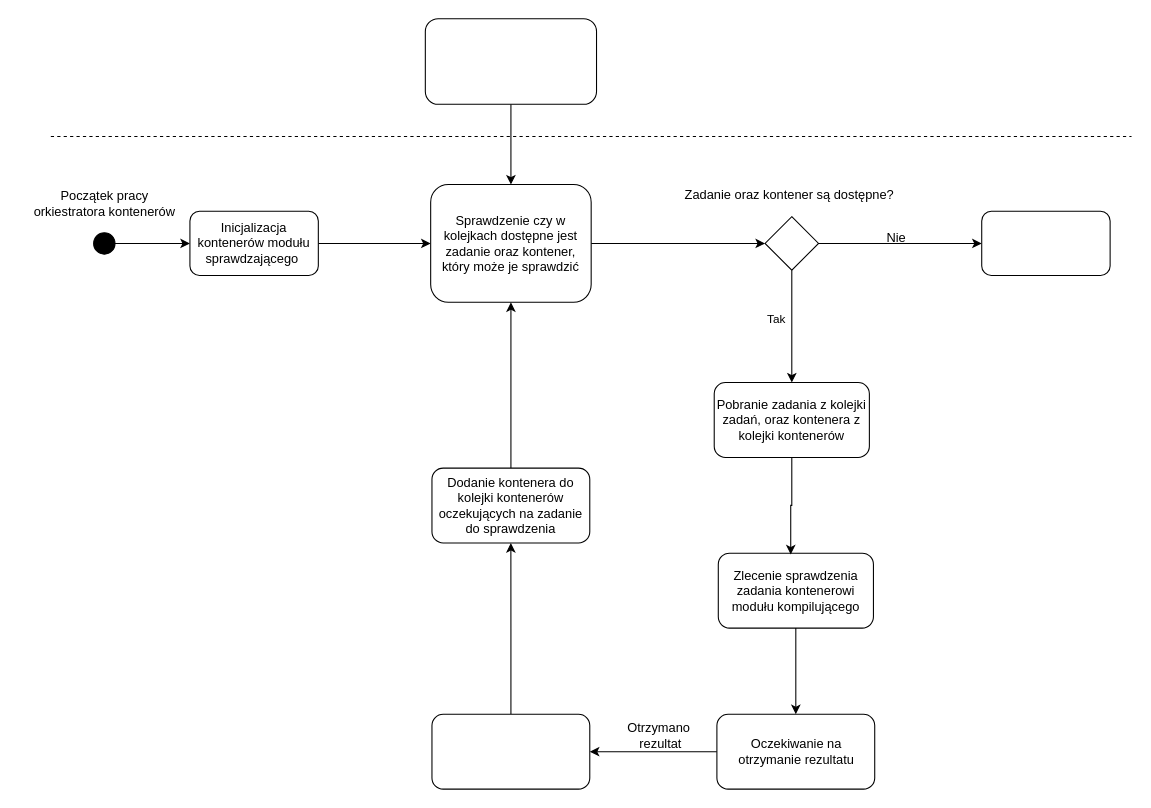
Some shapes in this 1151 by 808 pixel diagram are drawn without their labels. The shapes that lost their labels are listed below. From the top down, each one's centre as x and y in pixels, then its label:
the point at 510,61: Zarządca dodaje nowe zadanie do kolejki
the point at 1045,243: Nie podejmowana jest żadna akcja
the point at 510,751: Wywołanie metod nasłuchujących na wydarzenie sprawdzenia zadania
